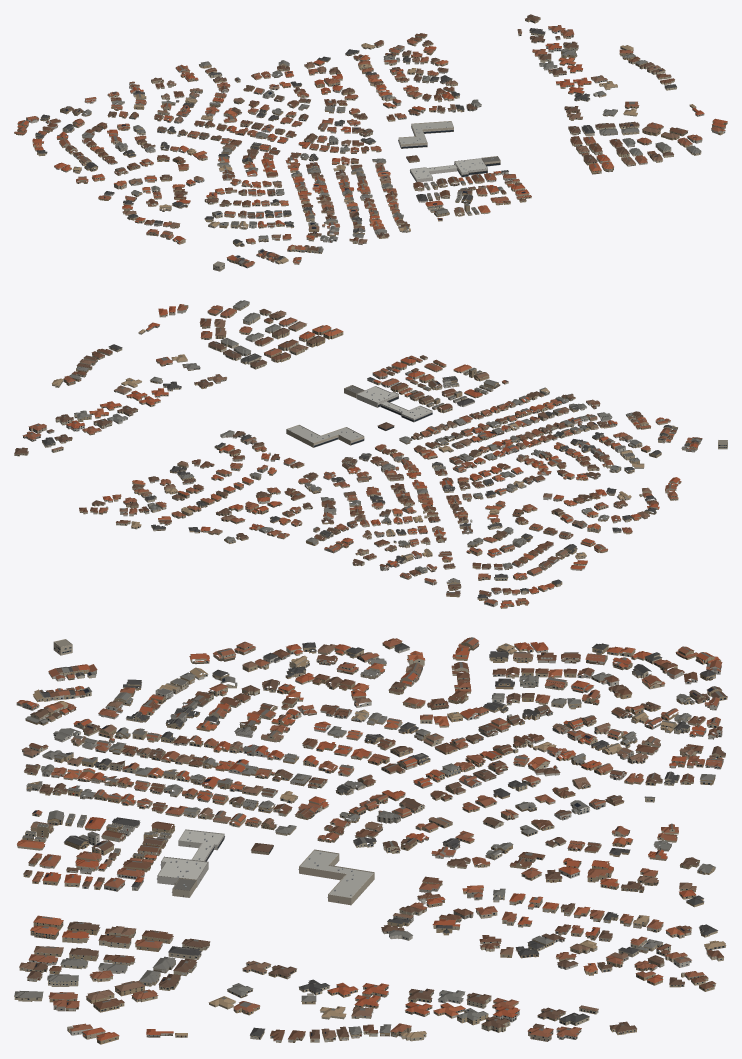
The picture shows the model from 3 angles, top to bottom: view 1: azimuth 30°, elevation 25°; view 2: azimuth 150°, elevation 25°; view 3: azimuth 270°, elevation 25°; orthographic projection. The views are drawn at different scales.
Visible parts, largest first — view 1: buildings_r1_c7_lod0; view 2: buildings_r1_c7_lod0; view 3: buildings_r1_c7_lod0.
Boxes of the visible parts, x1,y1,x2,y2 form: buildings_r1_c7_lod0: (14,14,727,271); buildings_r1_c7_lod0: (14,300,727,608); buildings_r1_c7_lod0: (14,637,727,1044).
Bounding box in the file's own units: 1147 × 60.95 × 813.
